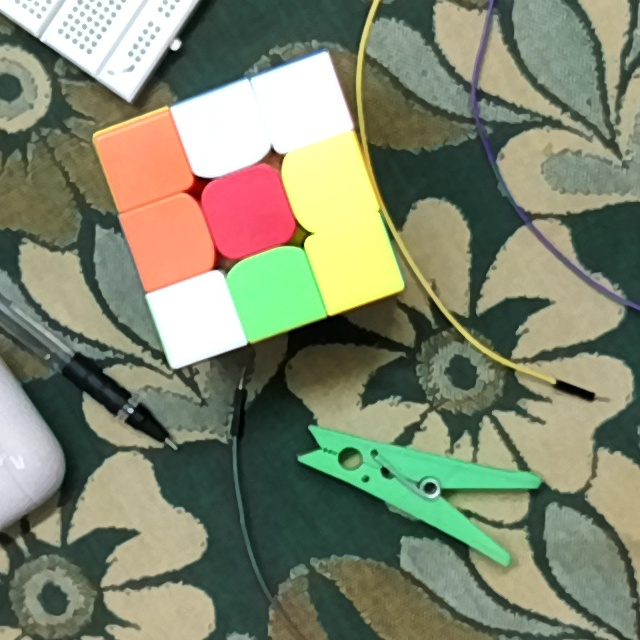tile: (217, 180, 281, 241), (143, 211, 203, 271), (117, 129, 173, 192), (166, 287, 224, 346), (193, 103, 254, 159), (301, 158, 358, 217), (247, 263, 307, 319), (277, 75, 331, 136), (324, 240, 384, 293)
